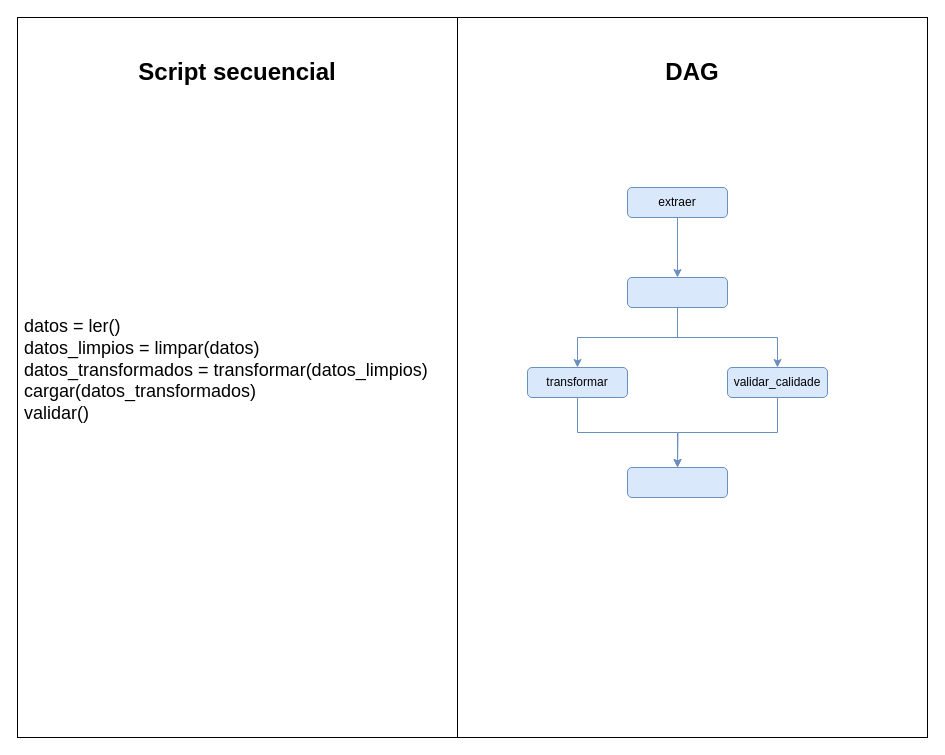
Some shapes in this 945 by 755 pixel diagram are drawn without their labels. The shapes that lost their labels are listed below. From the top down, each one's centre as x and y in pixels, then its label:
the point at 677,292: limpar
the point at 677,482: cargar
